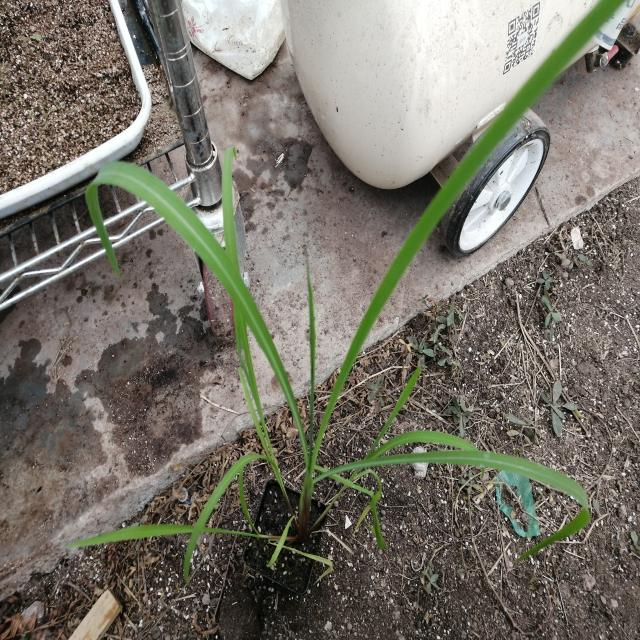barnyard_grass: (82, 102, 614, 528)
